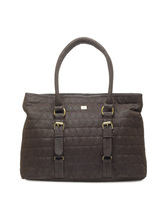bag: (16, 36, 150, 183)
